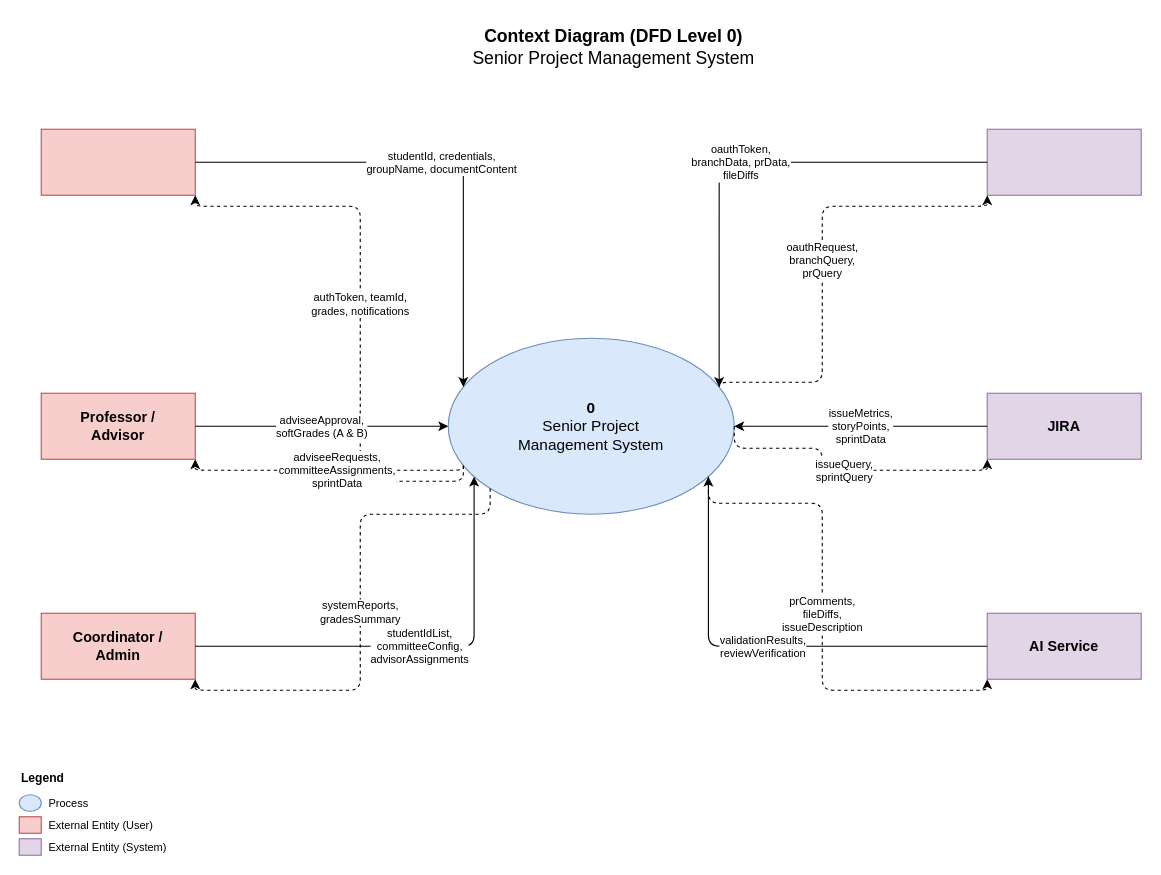
Some shapes in this 1161 by 875 pixel diagram are drawn without their labels. The shapes that lost their labels are listed below. From the top down, each one's box as (x1, y1, x2, y2) in pixels, then its label:
(40, 128, 195, 195): Student
(986, 128, 1141, 195): GitHub
